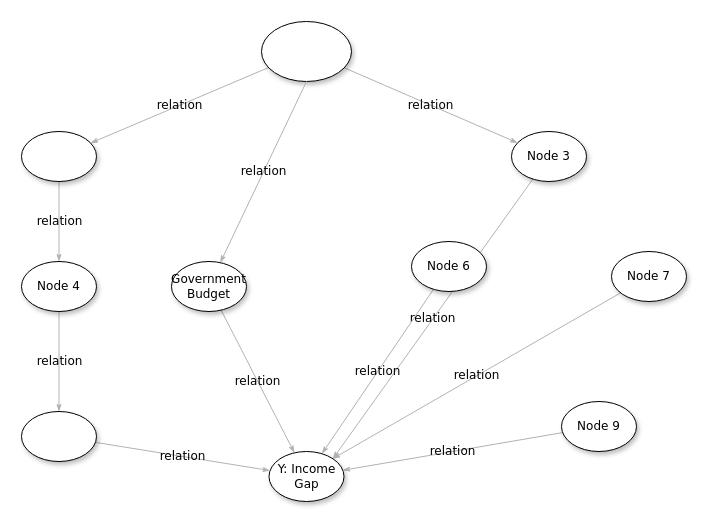
Image size: 710x526. Some labels were removed from this diagram. Here are the shapes that lost their labels. From the top down, the centre of each, then its label:
At pixel 307 52: "X: Tax on profit (%)".
At pixel 59 157: "Node 1".
At pixel 59 437: "Node 8".
